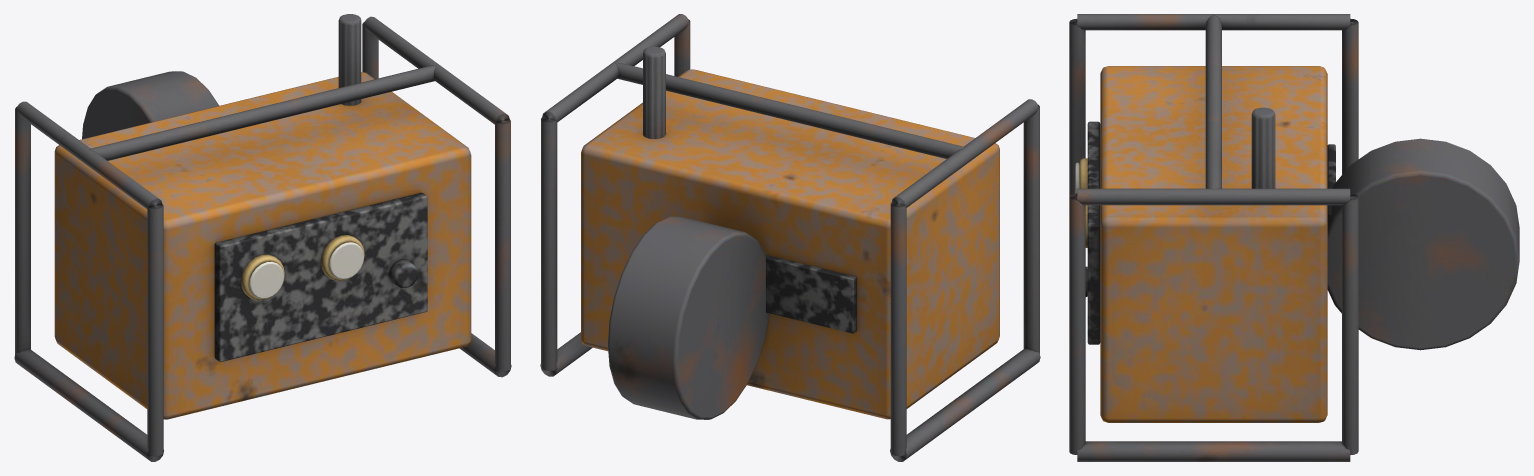
The model's file is welder_machine.glb.
The picture shows the model from 3 angles, left to right: view 1: azimuth 30°, elevation 25°; view 2: azimuth 150°, elevation 25°; view 3: azimuth 270°, elevation 25°; orthographic projection. The views are drawn at different scales.
Parts seen in each view (by area): view 1: WelderMachine; view 2: WelderMachine; view 3: WelderMachine.
Part boxes in pixels (<box>): WelderMachine: <box>14,14,511,461</box>; WelderMachine: <box>540,14,1040,461</box>; WelderMachine: <box>1069,14,1519,461</box>.
Bounding box in the file's own units: 1.05 × 0.85 × 1.09.
Materials: 6 (6 with a texture image).
